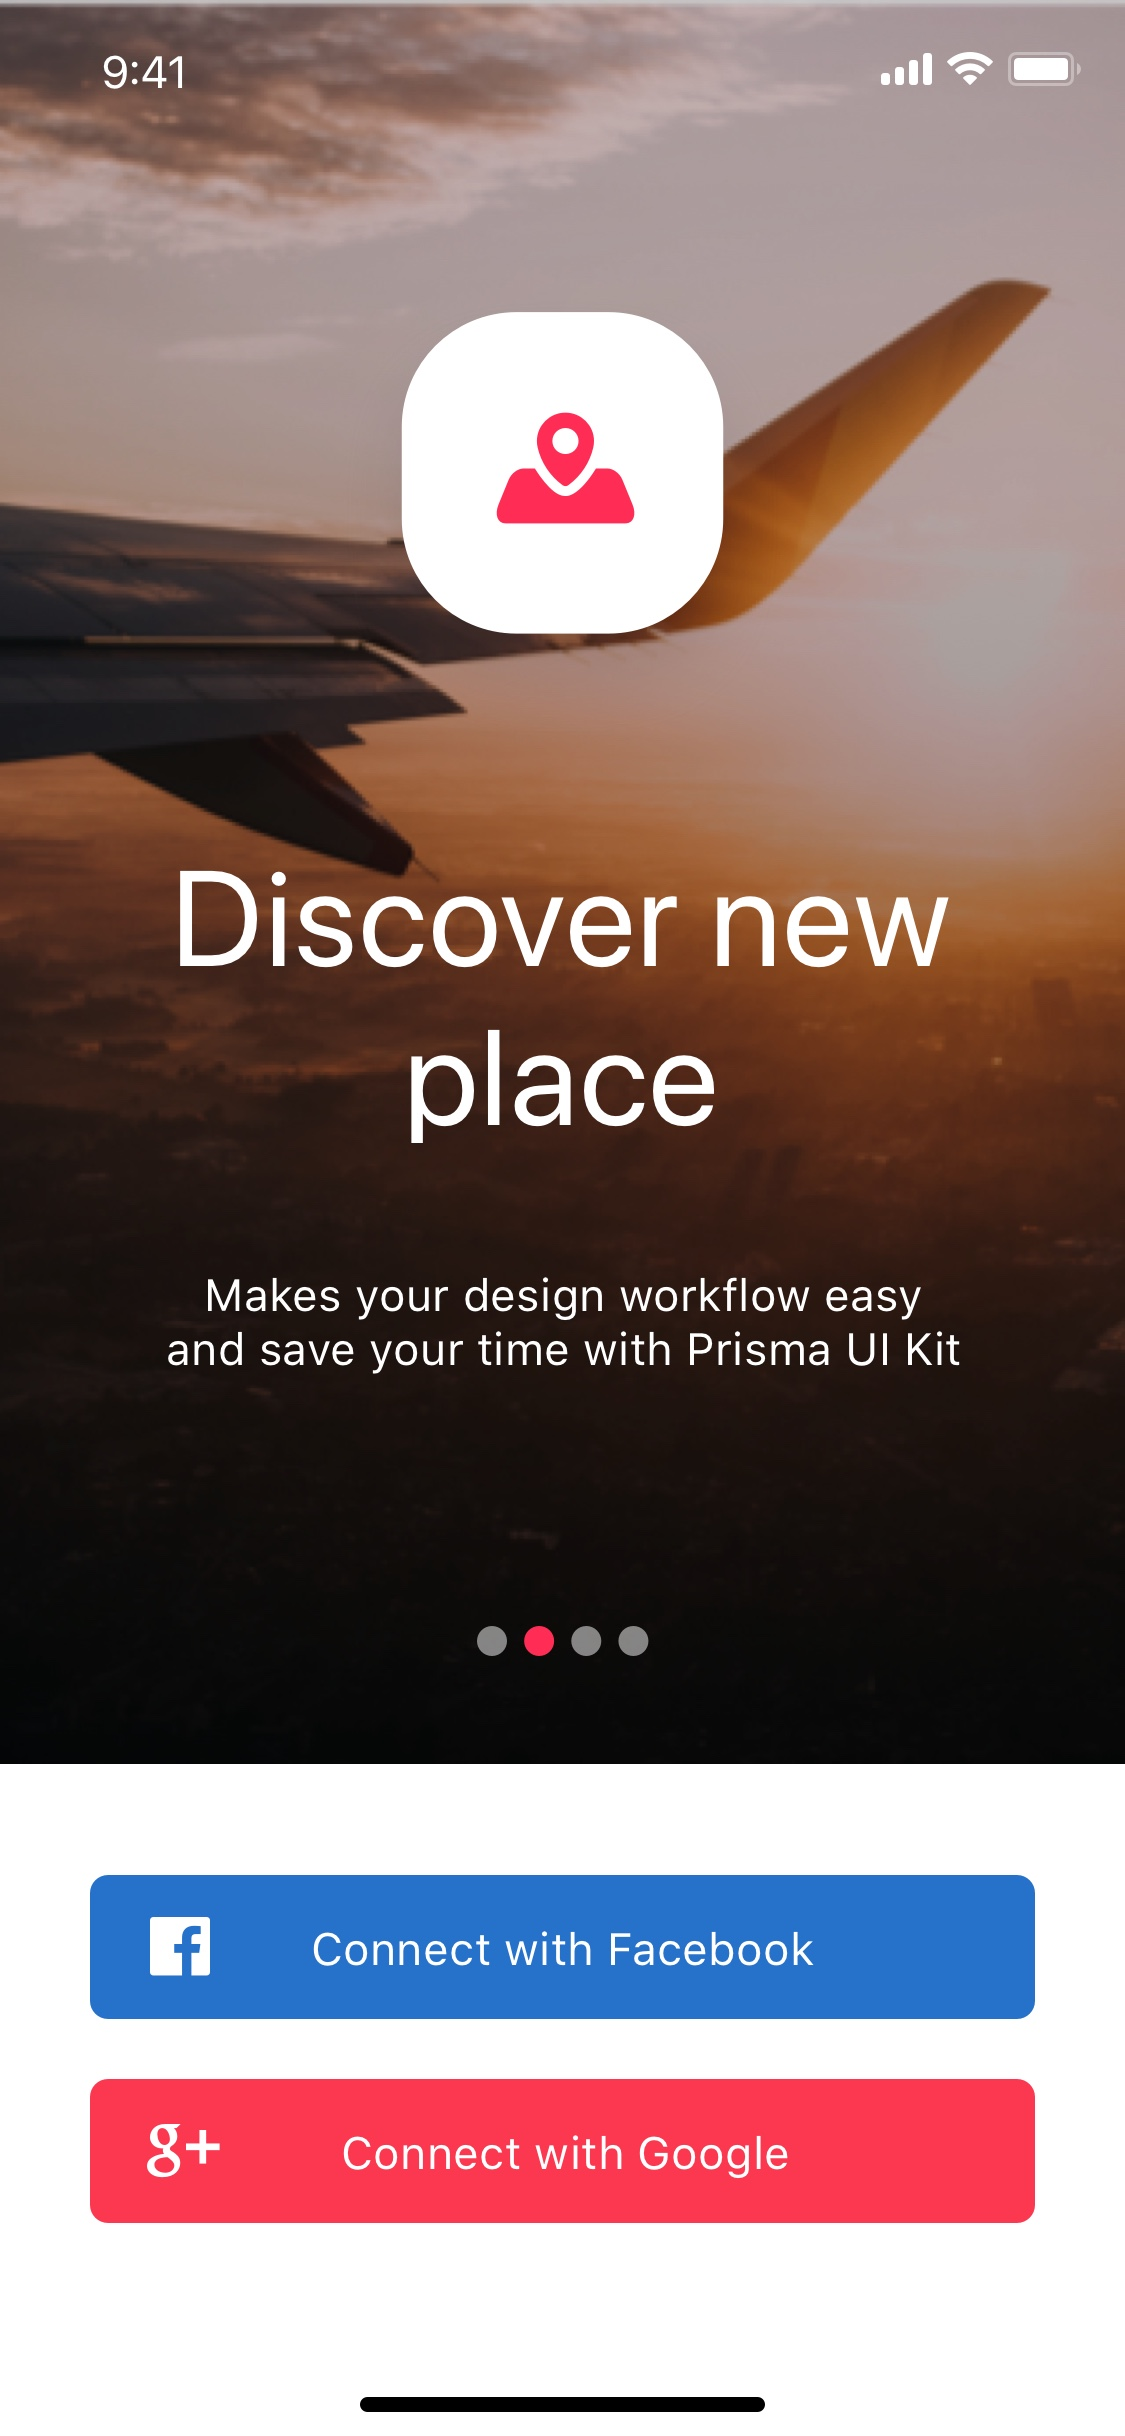BackgroundImage: (2, 2, 1125, 1763)
Image: (401, 311, 726, 635)
PageIndicator: (475, 1625, 650, 1658)
Text: (179, 870, 951, 1147), (166, 1275, 960, 1376)
TextButton: (90, 2079, 1036, 2225), (90, 1875, 1036, 2020)
UpperTaskBar: (103, 51, 1083, 92)
